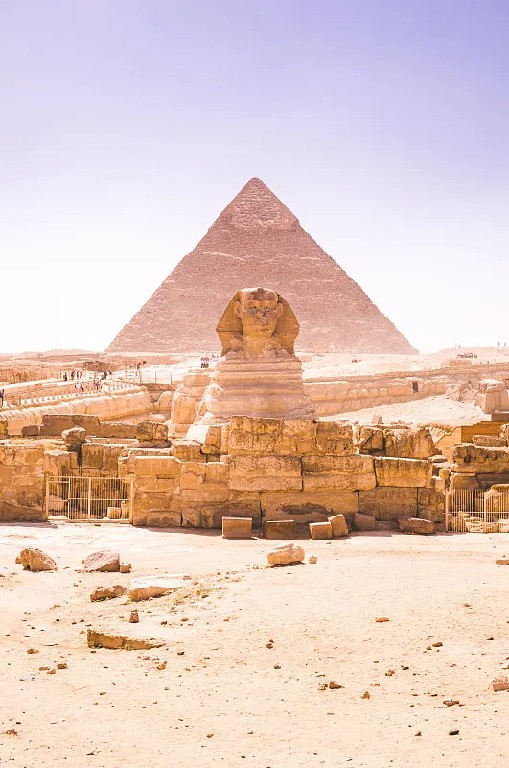Pyramid: (101, 176, 421, 356)
